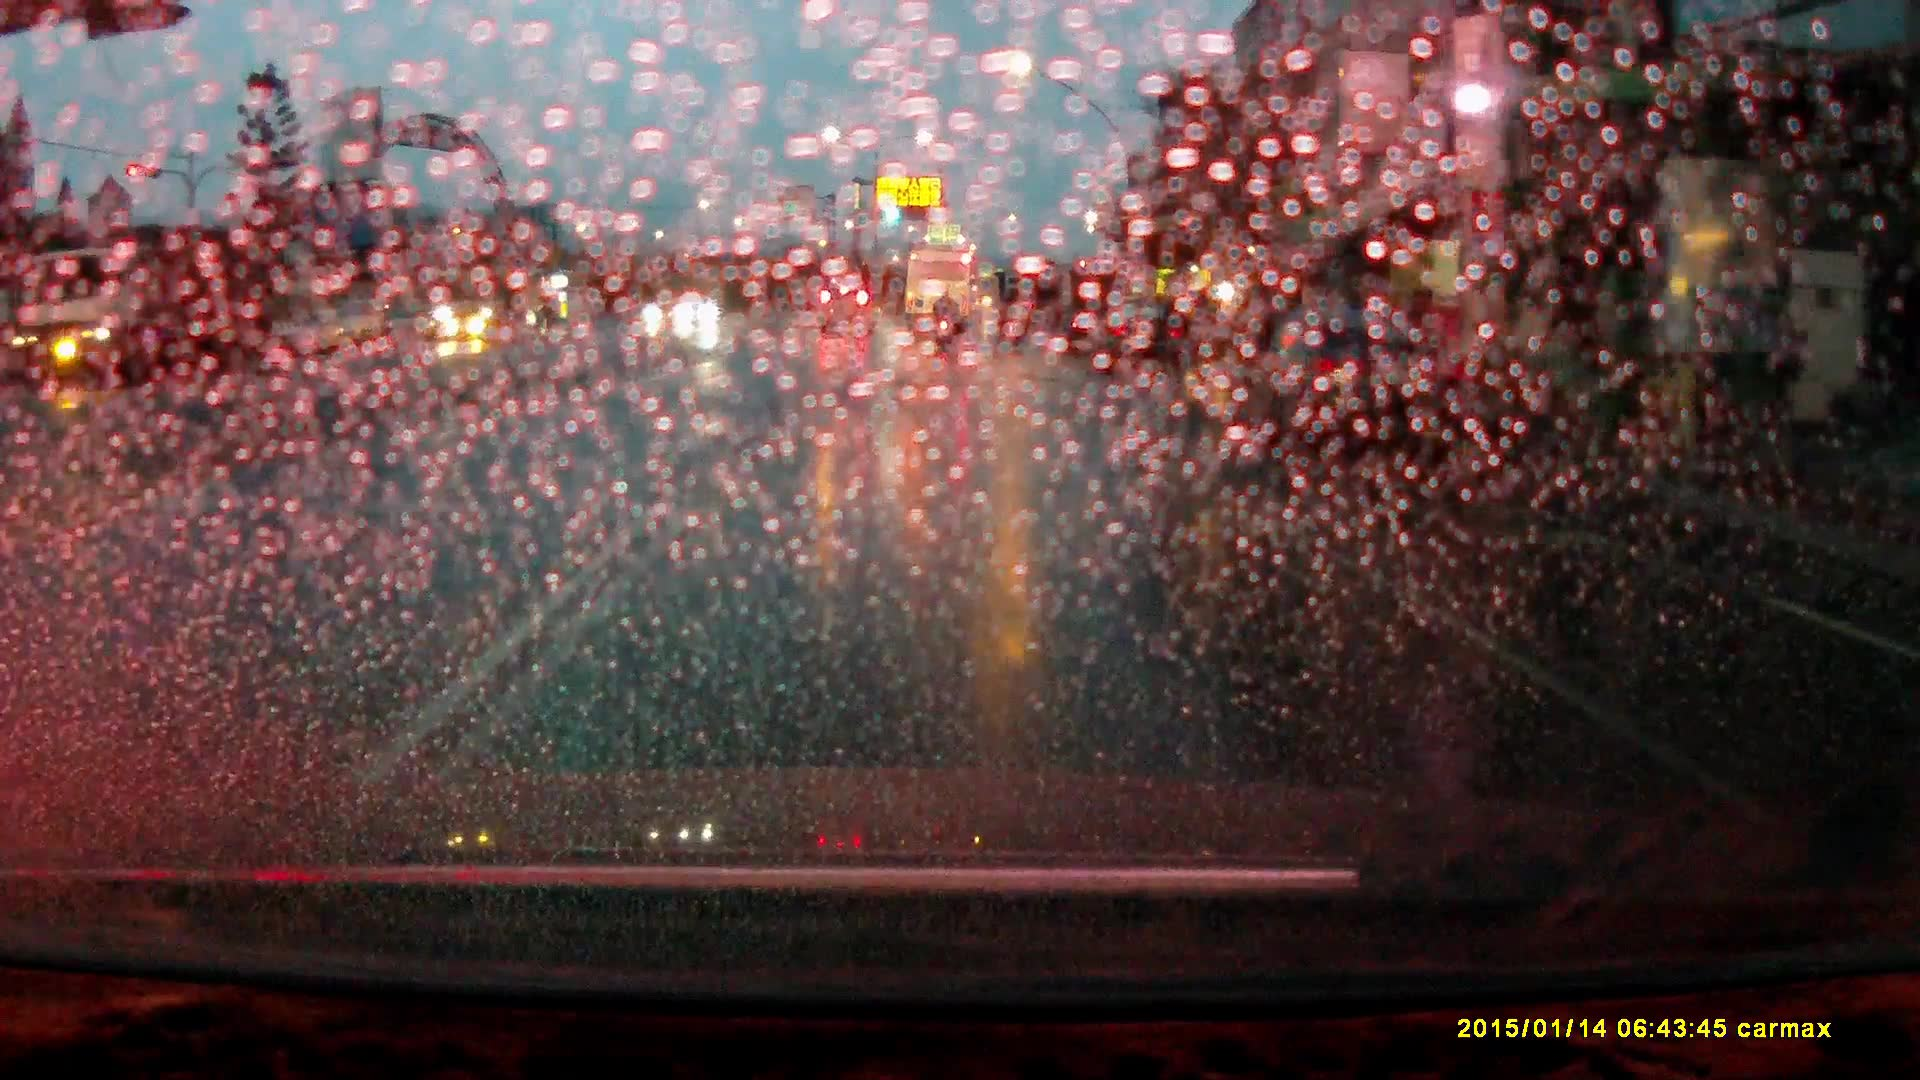rider: (933, 288, 959, 351)
vehicle: (9, 243, 243, 394), (1251, 313, 1469, 456), (435, 265, 555, 341), (1094, 307, 1185, 376), (906, 245, 975, 333), (817, 286, 879, 336), (673, 293, 721, 325)
